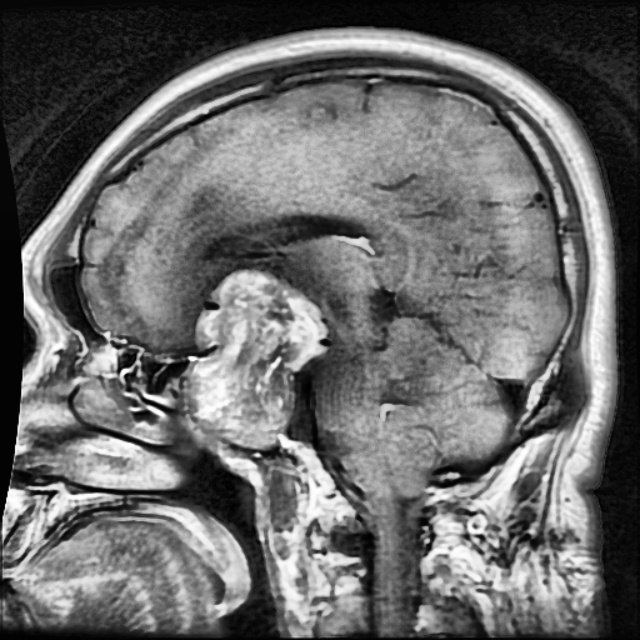Pituitary: (188, 269, 323, 445)
